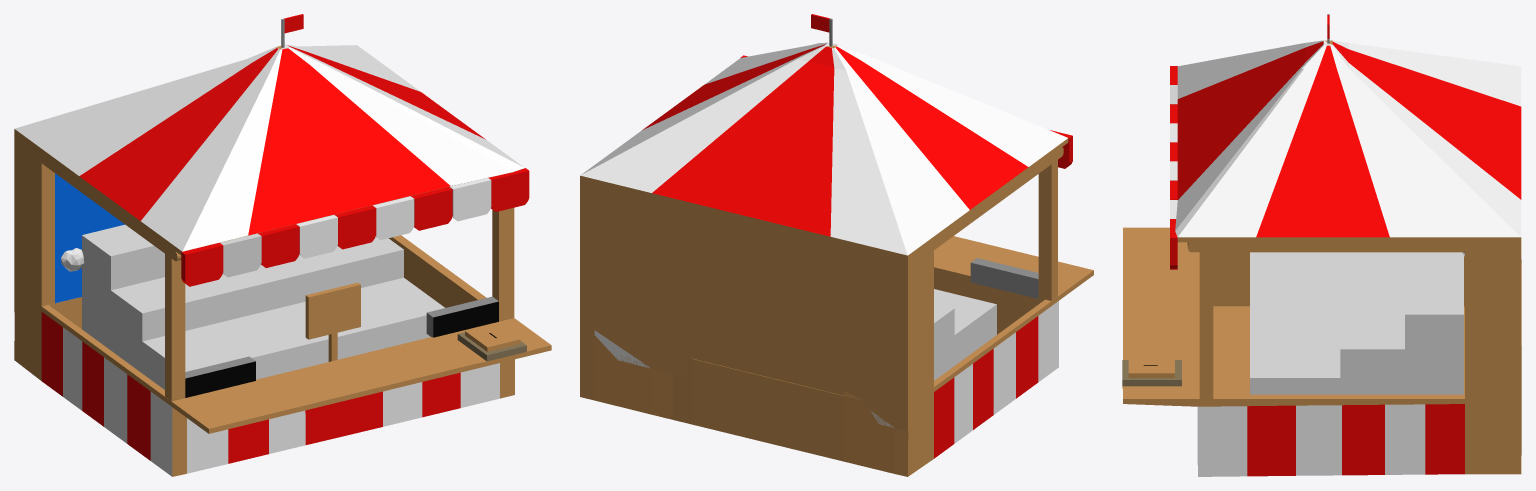
The model's file is CarpaFinal.fbx.
3 renders of one model, left to right at view 1: azimuth 30°, elevation 25°; view 2: azimuth 150°, elevation 25°; view 3: azimuth 270°, elevation 25°, orthographic. The views are drawn at different scales.
Visible parts, largest first — view 1: Carpa, Cartel, Cenefa1, Cenefa1.007, Cenefa1.006, Cenefa1.001, Cenefa1.002, Cenefa1.003, Cenefa1.004, Cenefa1.005, Cenefa1.008; view 2: Carpa; view 3: Carpa.
Boxes of the visible parts, <box> form: Carpa: <box>14,14,551,476</box>; Cartel: <box>305,282,360,361</box>; Cenefa1: <box>181,243,223,286</box>; Cenefa1.007: <box>450,178,491,221</box>; Cenefa1.006: <box>411,187,452,230</box>; Cenefa1.001: <box>220,233,261,277</box>; Cenefa1.002: <box>258,224,299,267</box>; Cenefa1.003: <box>373,196,414,239</box>; Cenefa1.004: <box>334,205,376,249</box>; Cenefa1.005: <box>296,215,337,258</box>; Cenefa1.008: <box>488,168,529,211</box>; Carpa: <box>580,14,1093,476</box>; Carpa: <box>1122,14,1521,476</box>.
Size of the model in its own units: 1873 by 1923 by 1841.
